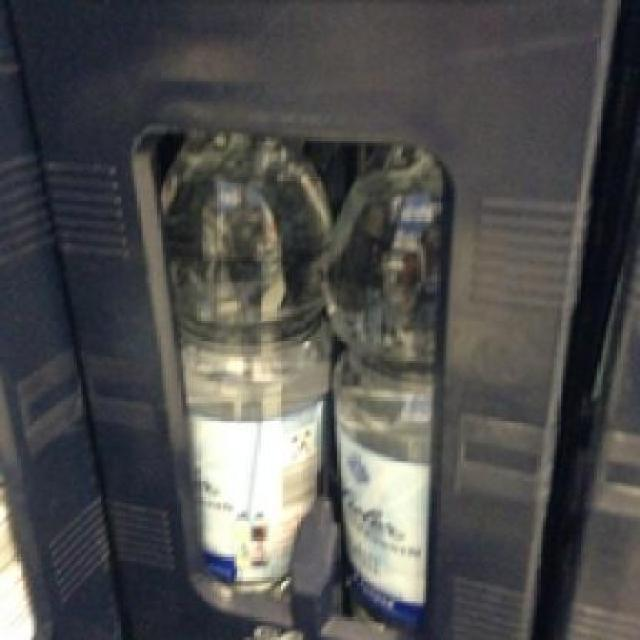Water: (154, 128, 326, 592), (317, 140, 440, 623)
